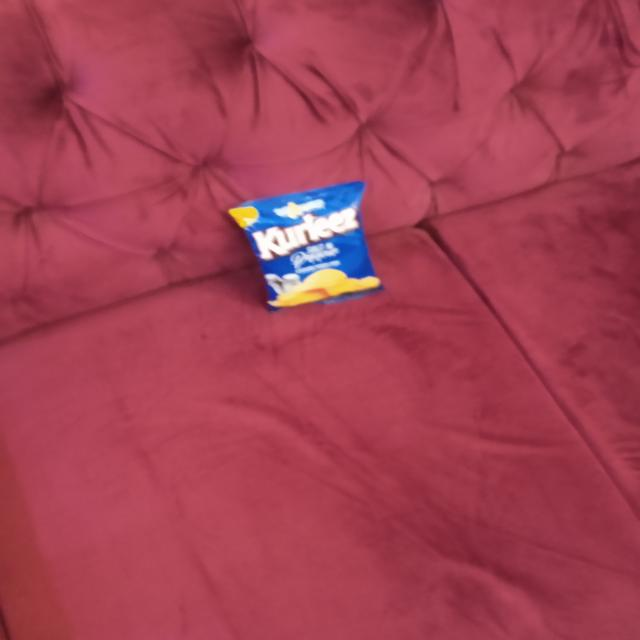Plastic: (228, 185, 370, 312)
